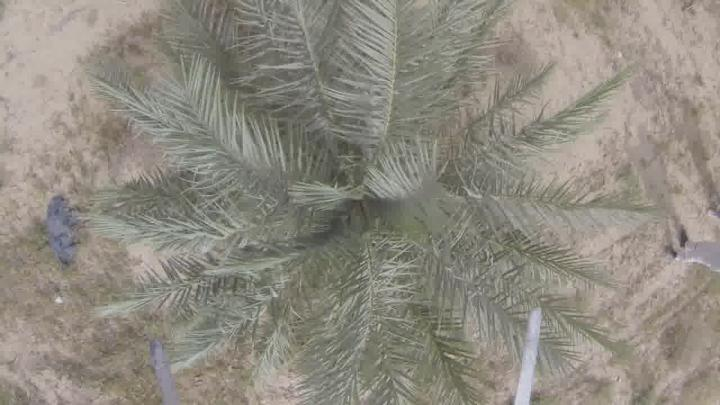Date-Palm-Crown: (210, 49, 496, 362)
